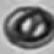correct: (2, 6, 54, 50)
